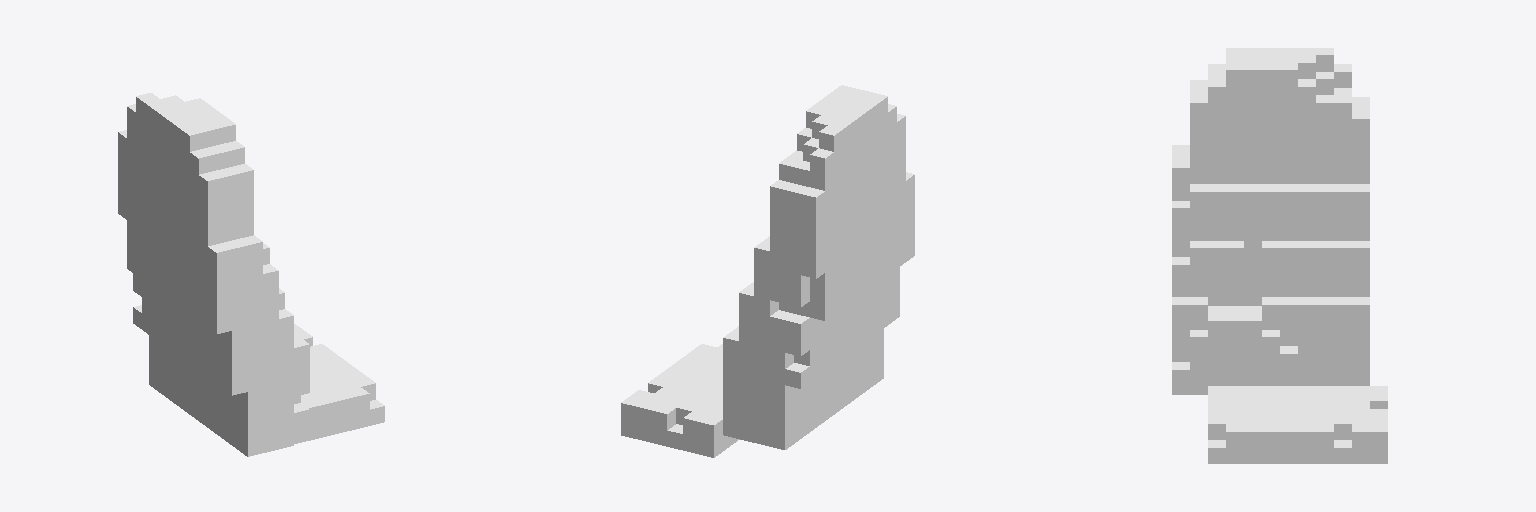
File: SM-3-Tomb1.obj
3 renders of one model, left to right at view 1: azimuth 30°, elevation 25°; view 2: azimuth 150°, elevation 25°; view 3: azimuth 270°, elevation 25°, orthographic.
Parts seen in each view (by area): view 1: Tomb1; view 2: Tomb1; view 3: Tomb1.
Boxes of the visible parts, <box> form: Tomb1: <box>118,93,384,456</box>; Tomb1: <box>621,85,914,457</box>; Tomb1: <box>1172,48,1387,463</box>.
Size of the model in its own units: 1.2 by 2 by 1.2.